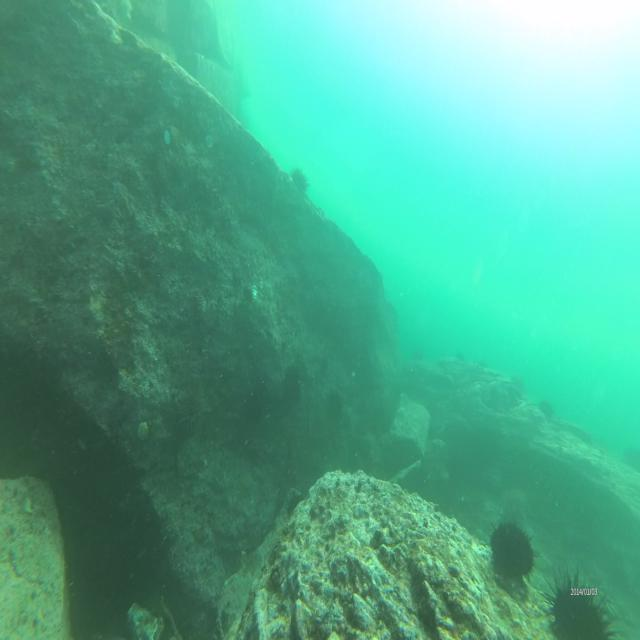echinus: (541, 560, 619, 640), (486, 513, 540, 583), (172, 399, 204, 439), (284, 364, 304, 404), (322, 386, 345, 419), (290, 164, 312, 197), (511, 370, 528, 394), (538, 394, 554, 418), (411, 347, 425, 366)
